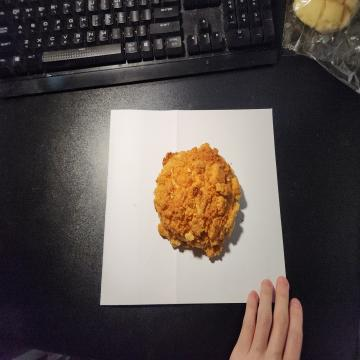soboru_bread: (153, 142, 241, 260)
